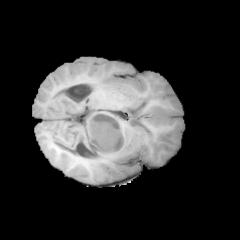glioma: (84, 111, 129, 155)
